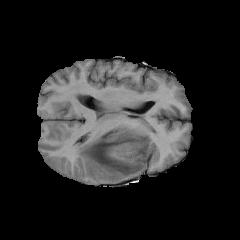glioma: (75, 128, 152, 182)
